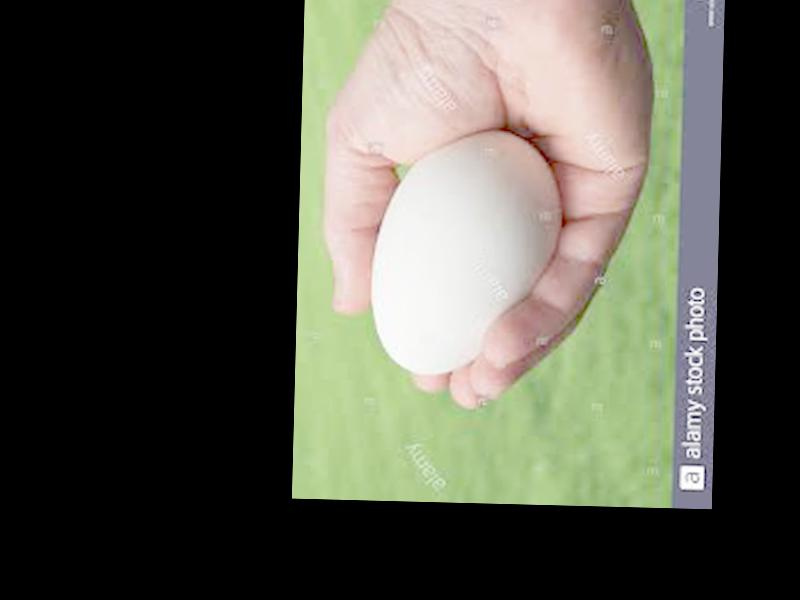Eggs: (367, 123, 564, 376)
